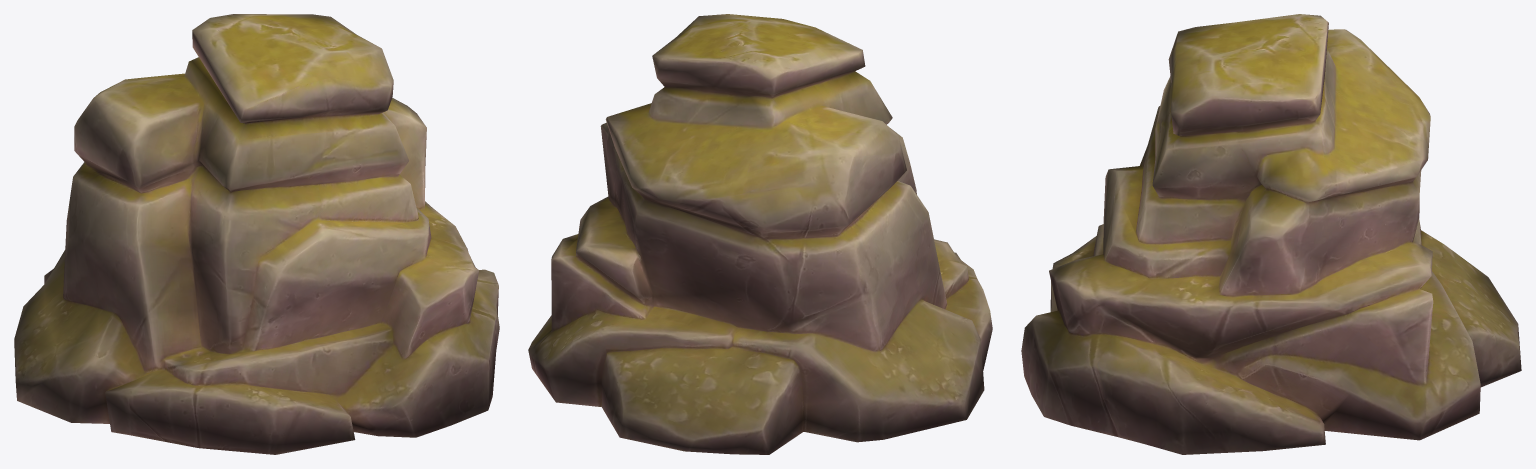
File: stylized-rock-agustin-h-nnun-ae21c3.glb
The picture shows the model from 3 angles, left to right: view 1: azimuth 30°, elevation 25°; view 2: azimuth 150°, elevation 25°; view 3: azimuth 270°, elevation 25°; orthographic projection. The views are drawn at different scales.
Parts seen in each view (by area): view 1: Stone_low_Stone_MAT_0; view 2: Stone_low_Stone_MAT_0; view 3: Stone_low_Stone_MAT_0.
Boxes of the visible parts, x1=… form: Stone_low_Stone_MAT_0: x1=14, y1=14, x2=499, y2=454; Stone_low_Stone_MAT_0: x1=528, y1=14, x2=992, y2=454; Stone_low_Stone_MAT_0: x1=1021, y1=14, x2=1521, y2=454.
Size of the model in its own units: 4.42 by 3.27 by 4.49.
1 material, 1 textured.
